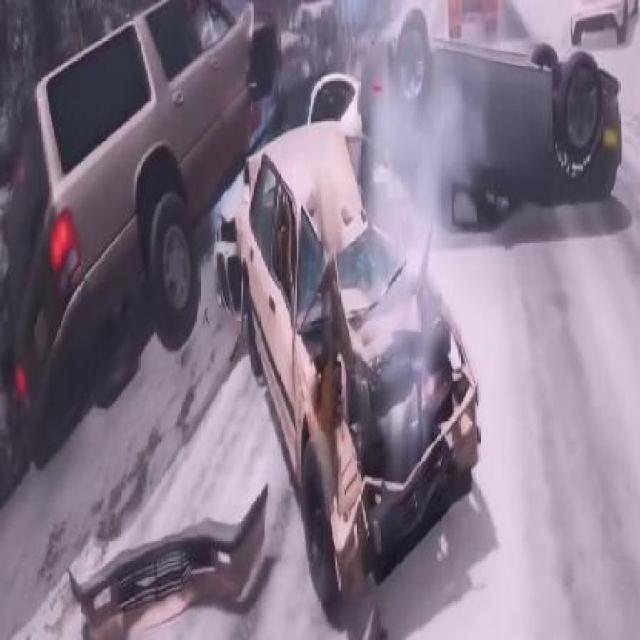accident: (9, 43, 508, 504)
